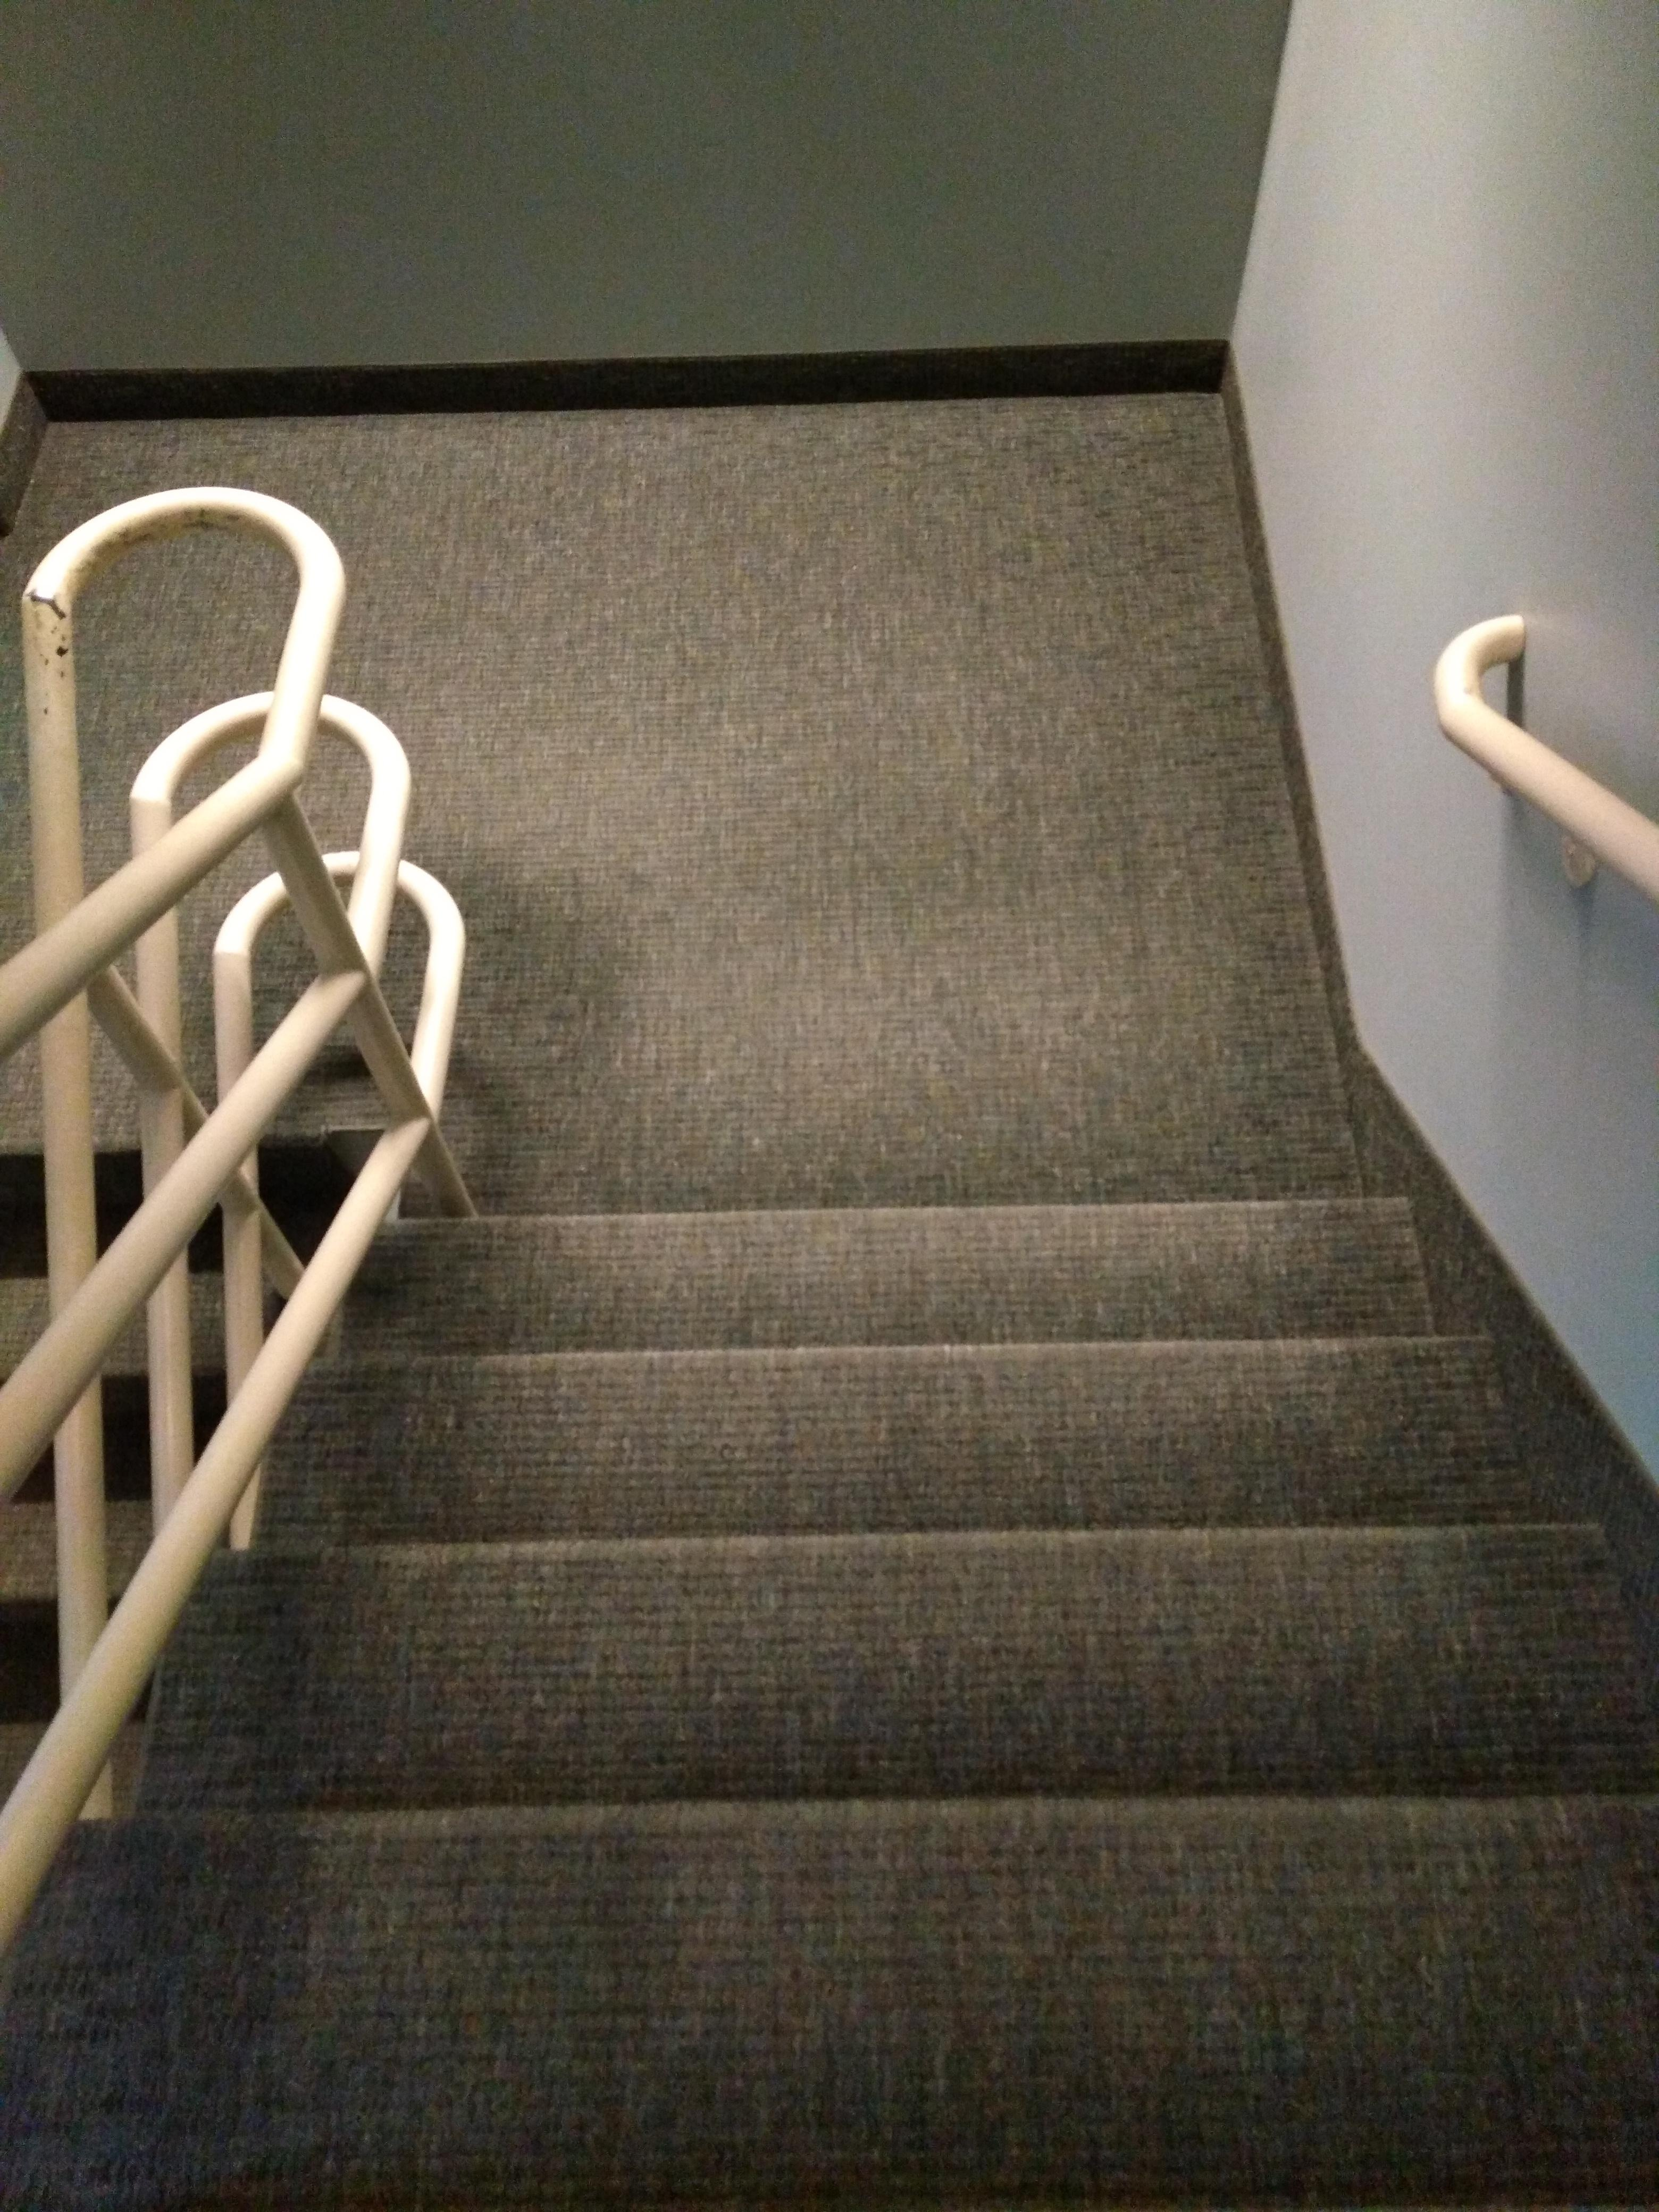stairs_down: (338, 1170, 1459, 2024)
